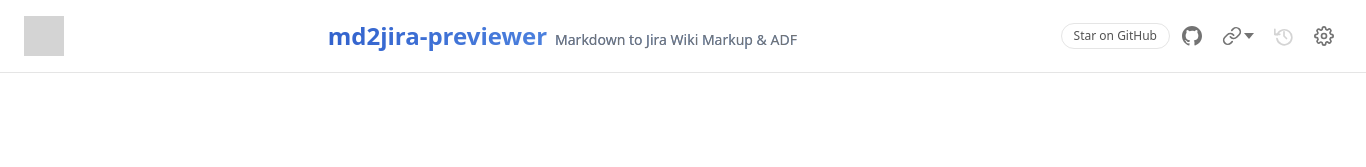
Test case: Header — export dropdown edge cases › export-menu PDF button closes the dropdown
Click the button named "share or export". click: click(1238, 36)
box: [1214, 18, 1262, 54]
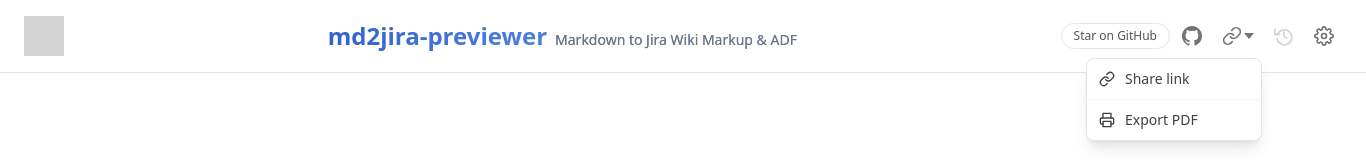
Click the button "Export PDF". click: click(1174, 120)
box: [1087, 99, 1261, 140]
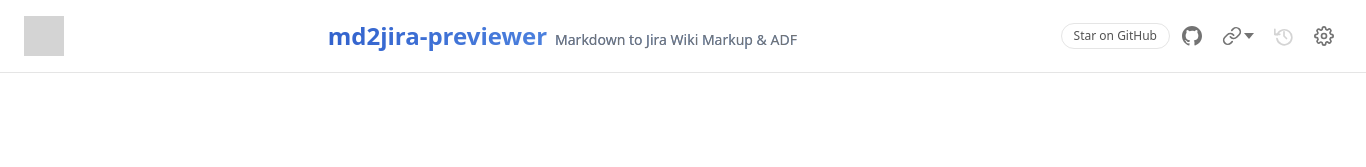
Expected: the button "Export PDF" is gone
